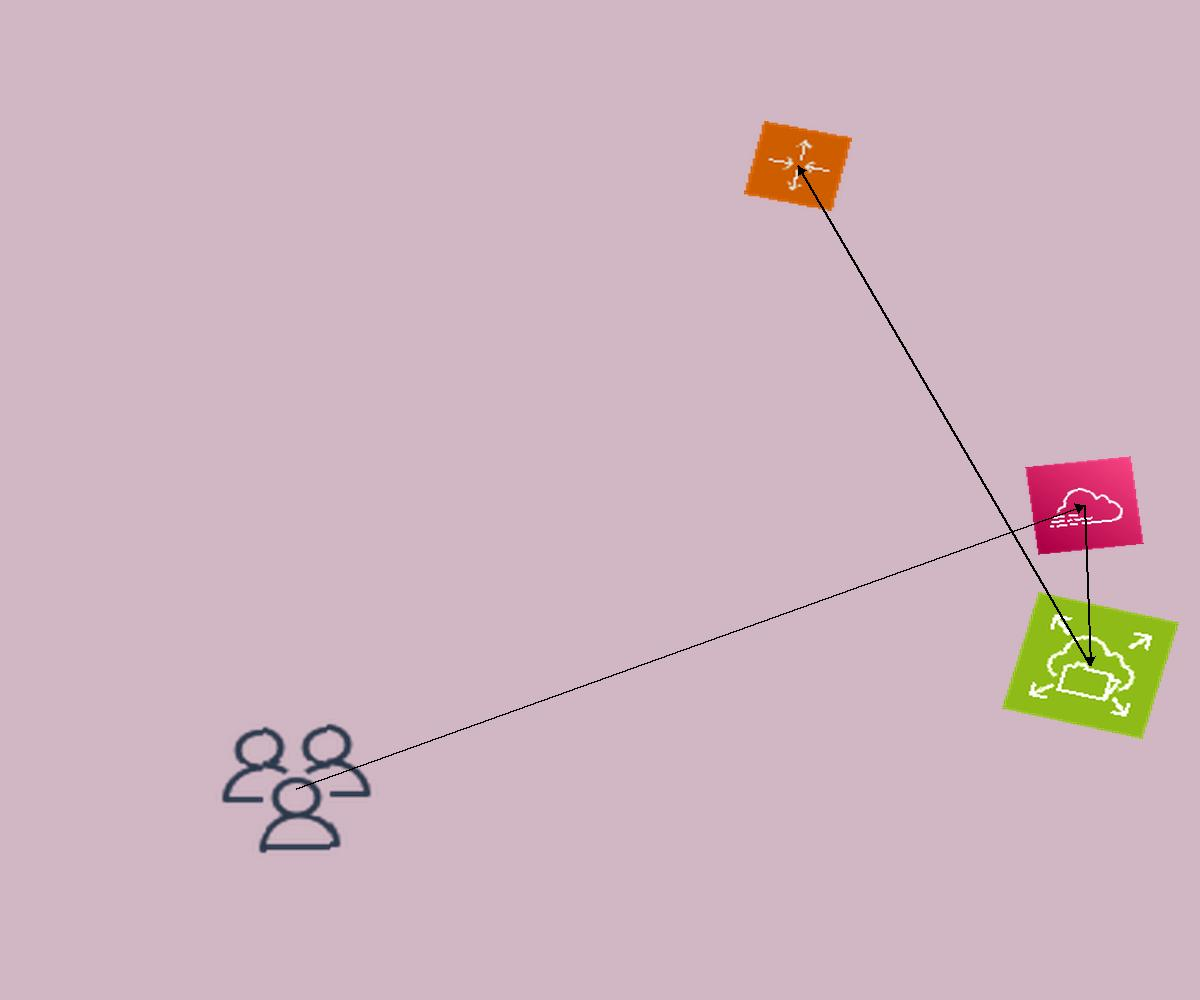AWS-CloudTrail: (1025, 456, 1144, 555)
AWS-EFS: (1002, 592, 1179, 739)
AWS-Res_Users: (209, 716, 384, 861)
AWS-Scaling-group: (744, 121, 852, 211)
